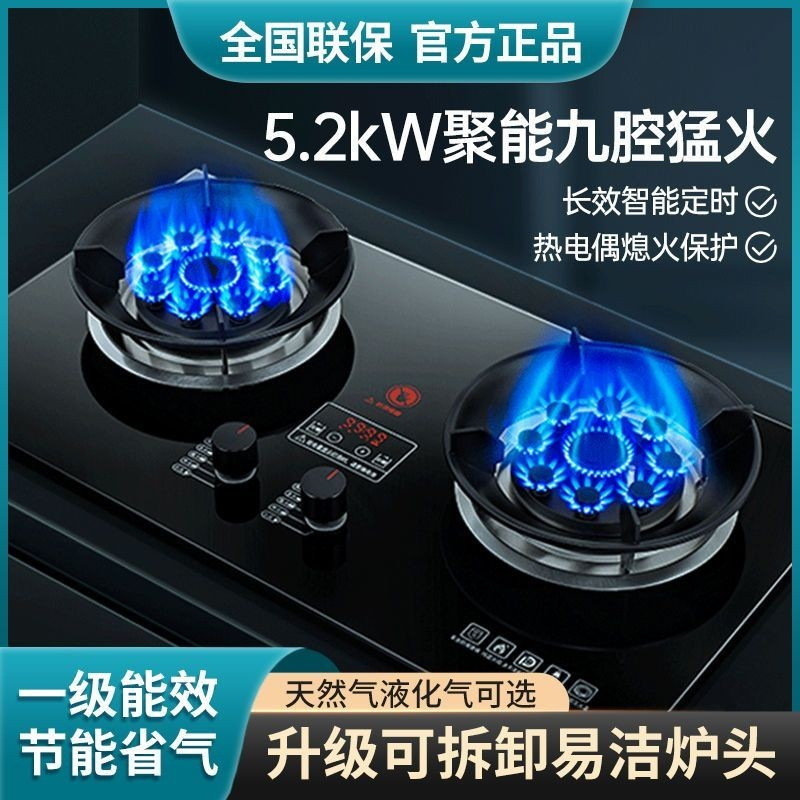gasoven: (7, 157, 787, 711)
